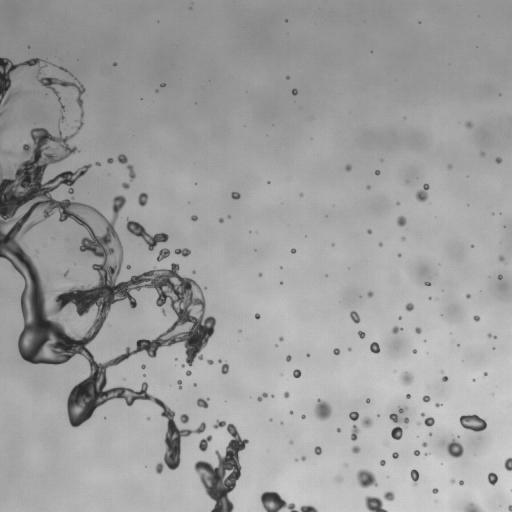droplet: (0, 57, 49, 129), (389, 413, 409, 439), (459, 414, 486, 431), (356, 469, 377, 488), (314, 399, 332, 420), (365, 496, 387, 511), (446, 438, 463, 457), (416, 183, 429, 201), (198, 435, 212, 451), (400, 371, 413, 385), (157, 248, 170, 261), (174, 248, 190, 257), (410, 469, 419, 485), (487, 472, 498, 485), (138, 192, 148, 206), (350, 425, 359, 440), (197, 398, 209, 408), (361, 417, 373, 427), (370, 342, 380, 353), (383, 491, 394, 501), (350, 311, 359, 323), (348, 411, 359, 420), (504, 457, 511, 471), (397, 216, 406, 226), (424, 417, 434, 426), (180, 414, 189, 423), (221, 363, 228, 374), (405, 302, 413, 311), (392, 326, 402, 333), (352, 445, 360, 453), (231, 192, 240, 199), (293, 369, 300, 378), (314, 446, 321, 455), (422, 395, 430, 402), (122, 182, 129, 189), (358, 331, 365, 338), (465, 121, 472, 127), (345, 164, 351, 171), (190, 215, 197, 221), (333, 348, 340, 354), (495, 157, 501, 163), (367, 291, 373, 297), (473, 315, 479, 321), (415, 327, 421, 333), (392, 452, 398, 458), (292, 88, 297, 95), (107, 158, 113, 163), (63, 271, 68, 277), (161, 309, 166, 315), (255, 313, 260, 319), (286, 355, 291, 361), (207, 359, 213, 364), (185, 370, 191, 375), (442, 376, 448, 381), (284, 392, 289, 398), (413, 450, 419, 455), (432, 488, 438, 493), (498, 256, 503, 261), (422, 442, 427, 447), (380, 460, 385, 465), (336, 476, 341, 481), (435, 403, 441, 407), (375, 170, 380, 174), (291, 248, 295, 253), (498, 274, 502, 279), (412, 349, 417, 353), (141, 364, 145, 369), (399, 408, 403, 413), (301, 414, 305, 419), (459, 480, 463, 485), (508, 505, 511, 511), (366, 185, 370, 189), (219, 218, 223, 222), (367, 229, 371, 233), (378, 242, 382, 246), (126, 265, 130, 269), (466, 294, 470, 298), (279, 337, 283, 341), (406, 394, 410, 398), (366, 398, 370, 402), (289, 410, 293, 414), (336, 428, 340, 432), (301, 456, 305, 460), (95, 162, 100, 165), (425, 282, 430, 285), (161, 83, 165, 86), (113, 62, 116, 65), (481, 152, 484, 155), (448, 165, 451, 168), (401, 237, 404, 240), (348, 347, 351, 350), (218, 360, 221, 363), (421, 413, 424, 416), (451, 479, 454, 482), (397, 254, 401, 256), (484, 372, 486, 376), (286, 76, 288, 79), (471, 244, 473, 247), (192, 271, 195, 273), (259, 273, 261, 276), (306, 354, 309, 356), (174, 358, 177, 360), (271, 394, 273, 397), (417, 422, 420, 424), (289, 441, 292, 443), (425, 453, 428, 455), (51, 63, 53, 65), (300, 193, 302, 195), (397, 202, 399, 204), (227, 215, 229, 217), (399, 316, 401, 318), (147, 417, 149, 419), (295, 459, 297, 461)
ligament: (0, 78, 215, 470), (194, 420, 248, 511), (127, 218, 168, 250), (260, 491, 318, 511), (117, 154, 135, 180), (464, 502, 482, 511), (57, 66, 70, 74), (257, 392, 267, 401), (59, 104, 64, 121), (488, 334, 496, 338), (177, 380, 181, 388)
